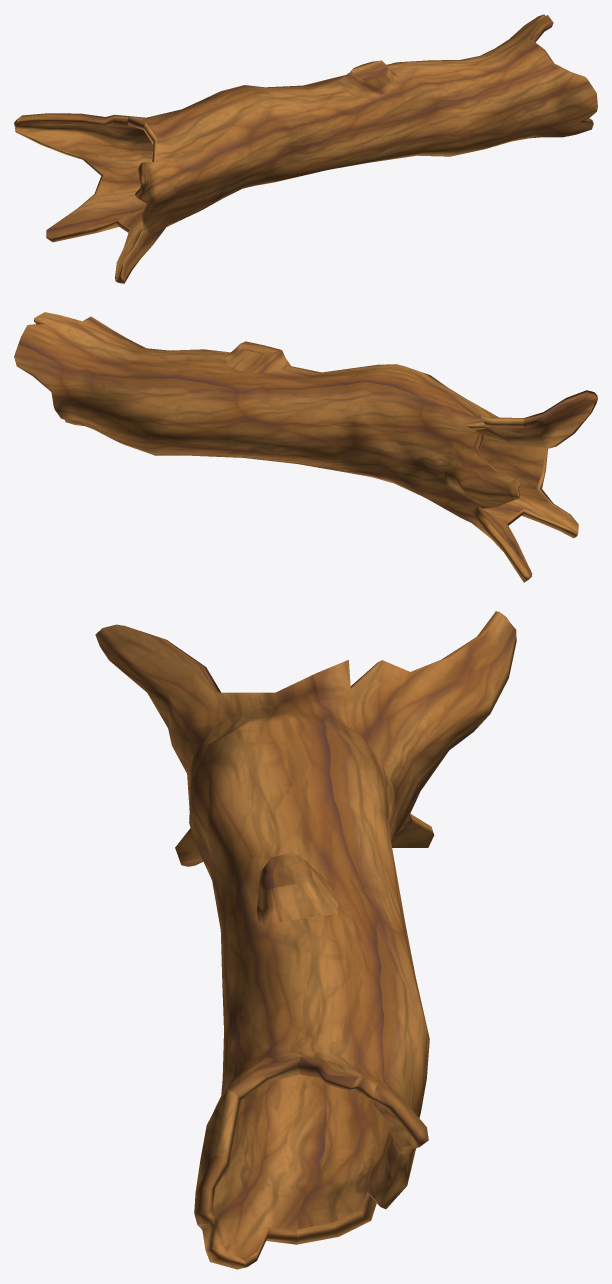
The model's file is Tronco.fbx.
3 views of the same model, one above another, from view 1: azimuth 30°, elevation 25°; view 2: azimuth 150°, elevation 25°; view 3: azimuth 270°, elevation 25° (orthographic). The views are drawn at different scales.
Visible parts, largest first — view 1: Cylinder; view 2: Cylinder; view 3: Cylinder.
Boxes of the visible parts, bbox=[...] form: Cylinder: bbox=[14, 14, 597, 283]; Cylinder: bbox=[14, 312, 597, 582]; Cylinder: bbox=[95, 611, 516, 1269].
Bounding box in the file's own units: 1538 × 401 × 554.
